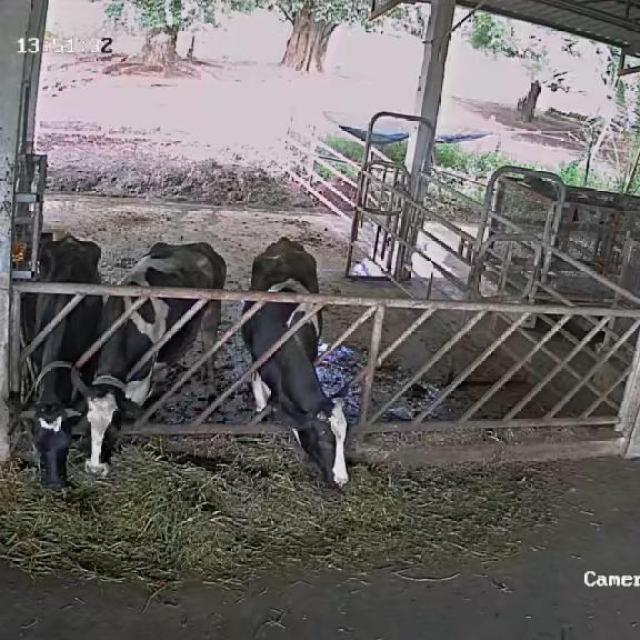feeding: (70, 235, 232, 487), (234, 233, 356, 492), (5, 217, 114, 505)
